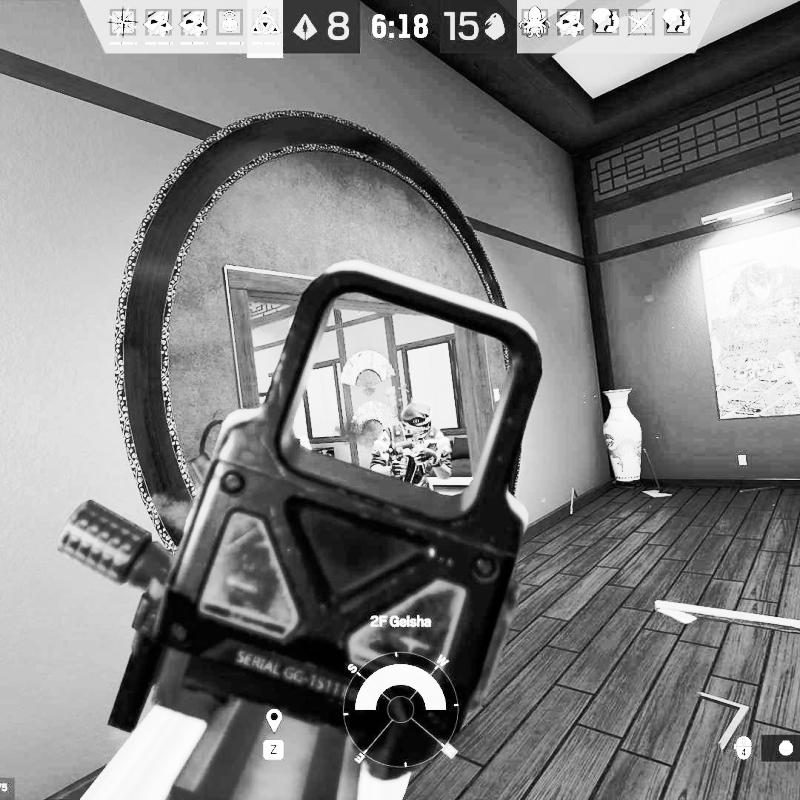Character: (368, 400, 456, 490)
Head: (399, 400, 435, 436)
